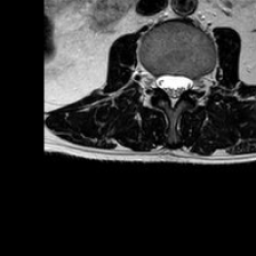CCS_normal: (168, 65, 178, 113)
LFS_normal: (191, 64, 202, 100)
LLS_normal: (178, 65, 191, 100)
RFS_normal: (145, 63, 156, 98)
RLS_normal: (156, 67, 168, 103)
